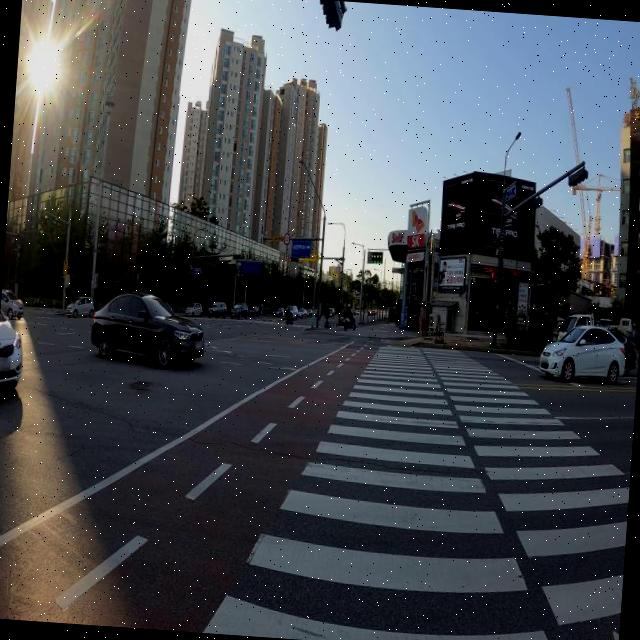crosswalk: (203, 342, 629, 640), (178, 316, 315, 328)
